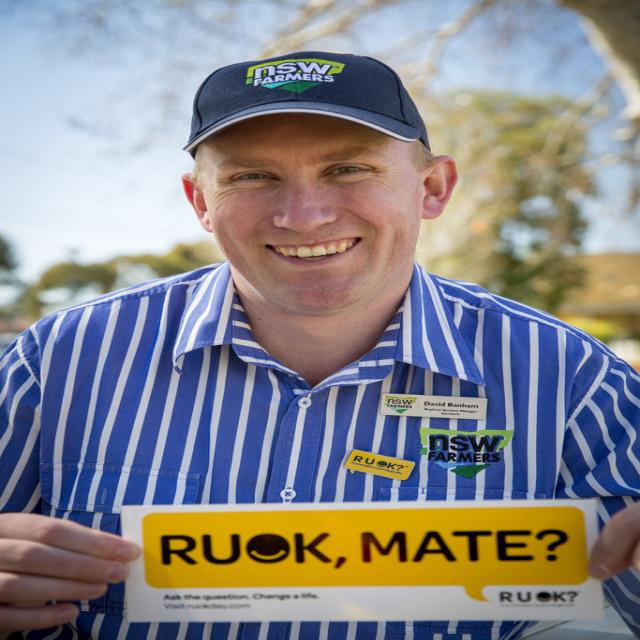Hat: (181, 52, 430, 156)
